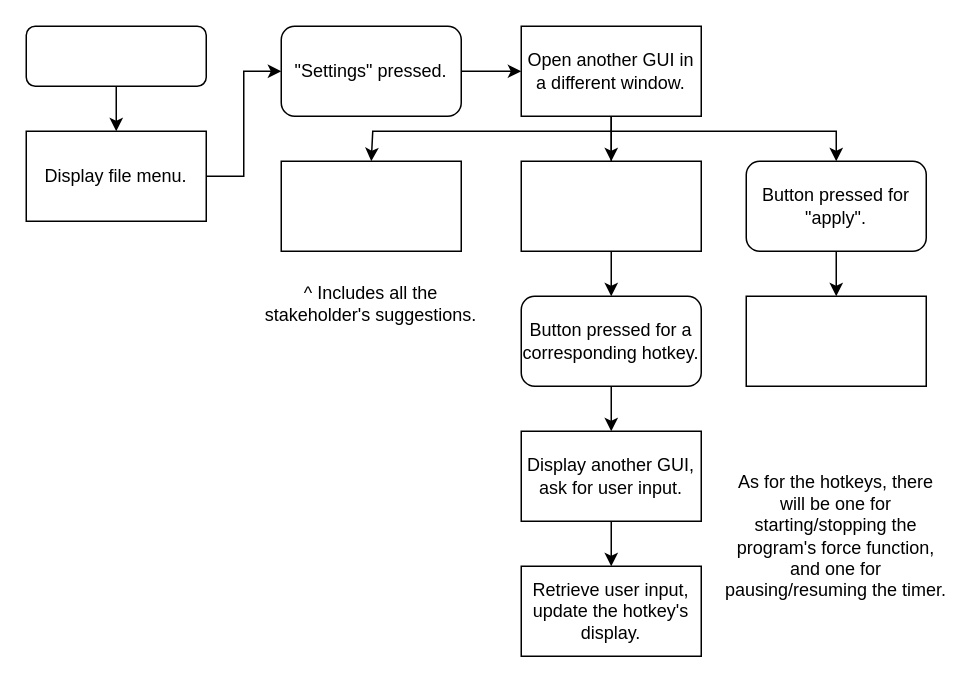
Some shapes in this 975 by 683 pixel diagram are drawn without their labels. The shapes that lost their labels are listed below. From the top down, each one's box as (x1, y1, x2, y2) in pixels, then its label:
(25, 25, 206, 86): "File" menu pressed
(280, 160, 461, 251): Also display a list of togglable settings.
(520, 160, 701, 251): Display an array of hotkeys, alongside with buttons.
(745, 295, 926, 386): Save the settings in a JSON file, which will be read on startup.
